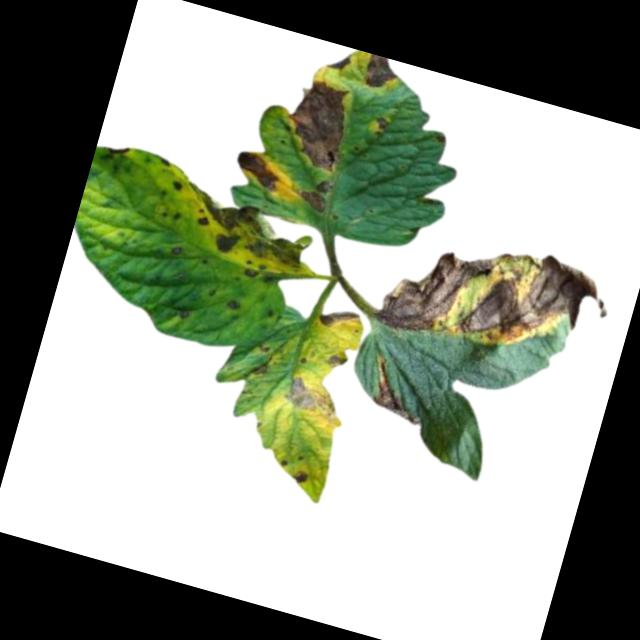Early_blight: (375, 213, 618, 383), (189, 191, 318, 275), (277, 73, 357, 175), (362, 352, 439, 425), (283, 373, 348, 420), (230, 147, 285, 193), (361, 54, 400, 94), (299, 174, 336, 215), (317, 300, 361, 334), (326, 48, 353, 75), (323, 347, 348, 370), (288, 464, 311, 486), (249, 355, 271, 378), (372, 113, 392, 137), (107, 139, 131, 158), (243, 262, 262, 279), (226, 296, 245, 311), (168, 243, 185, 257), (171, 176, 185, 192)
